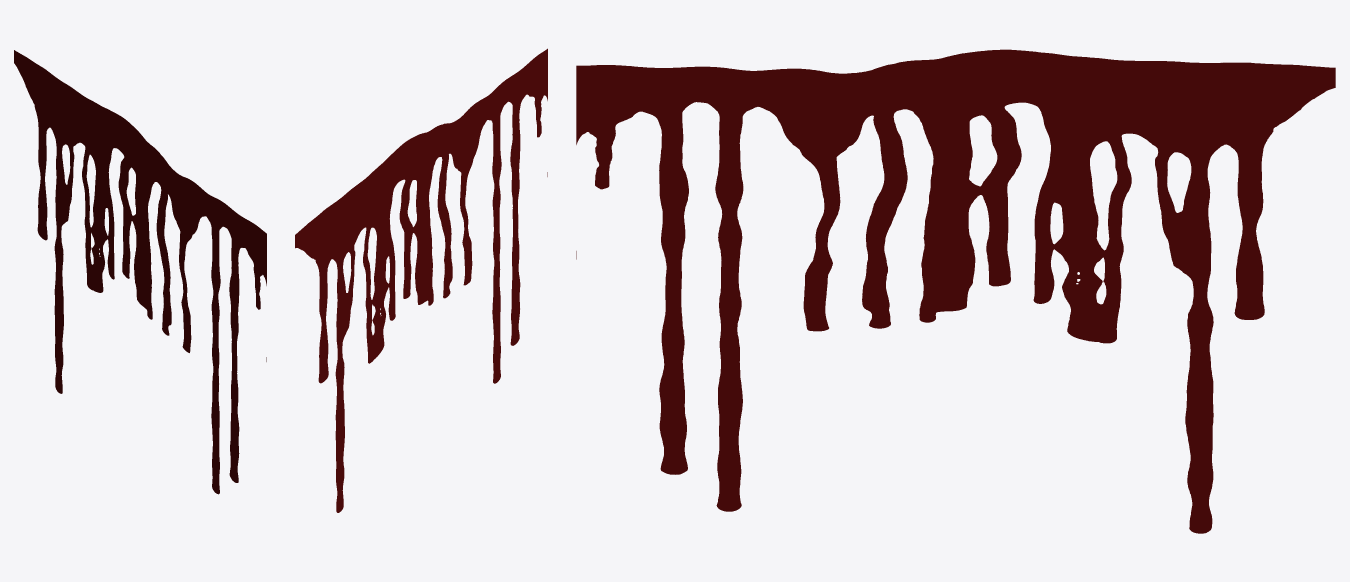
File: blood drip.FBX
The picture shows the model from 3 angles, left to right: view 1: azimuth 30°, elevation 25°; view 2: azimuth 150°, elevation 25°; view 3: azimuth 270°, elevation 25°; orthographic projection. The views are drawn at different scales.
Parts seen in each view (by area): view 1: blood drippo; view 2: blood drippo; view 3: blood drippo.
Boxes of the visible parts, <box> form: blood drippo: <box>14,50,266,494</box>; blood drippo: <box>295,48,547,512</box>; blood drippo: <box>576,49,1335,533</box>.
Bounding box in the file's own units: 3.94e-07 × 2.33 × 2.89.
